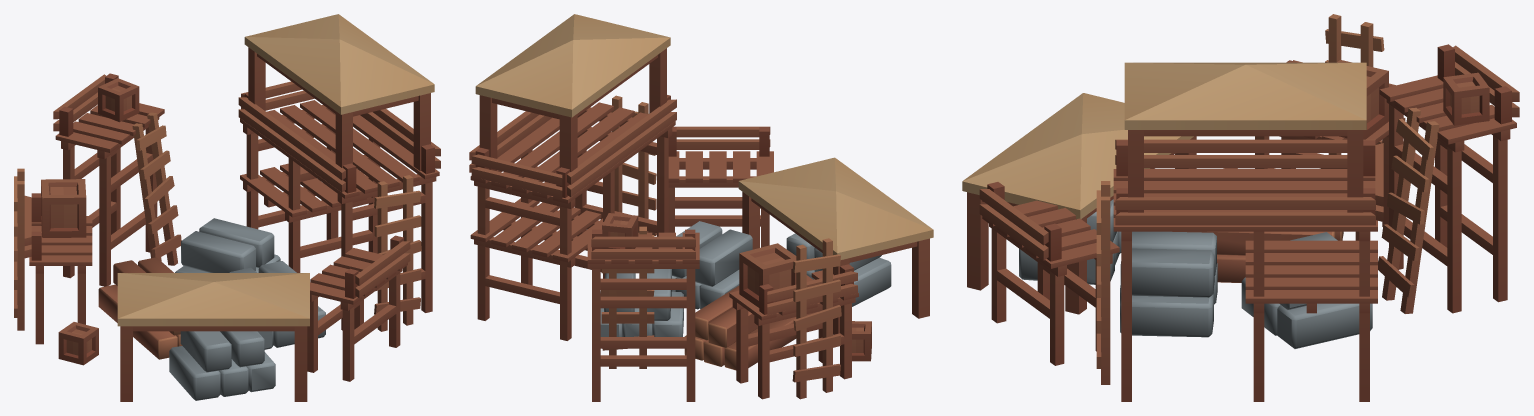
The model's file is scaffold.glb.
3 renders of one model, left to right at view 1: azimuth 30°, elevation 25°; view 2: azimuth 150°, elevation 25°; view 3: azimuth 270°, elevation 25°, orthographic. The views are drawn at different scales.
Parts seen in each view (by area): view 1: building_scaffolding; view 2: building_scaffolding; view 3: building_scaffolding.
Boxes of the visible parts, <box> form: building_scaffolding: <box>14,14,440,401</box>; building_scaffolding: <box>469,14,933,401</box>; building_scaffolding: <box>962,14,1519,401</box>.
Bounding box in the file's own units: 1.9 × 1.3 × 2.11.
